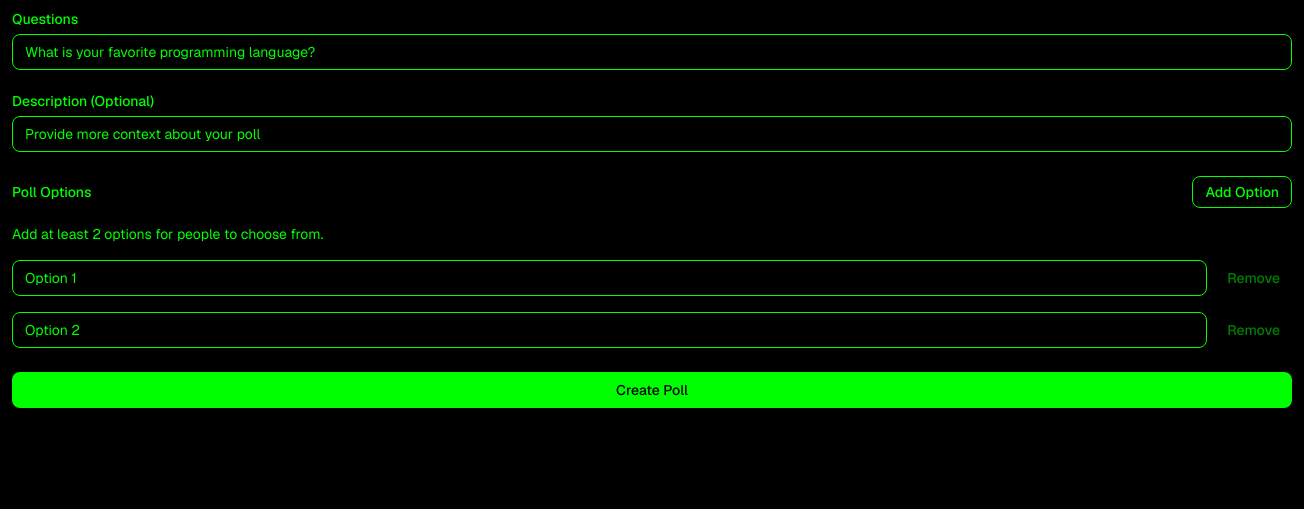
Scenario: PollCreateForm Unit Tests › should display error messages for empty required fields on submission
The width and height of the screenshot is (1304, 509).
Click the button "Create Poll".
click(652, 390)  # box [12,372,1292,408]
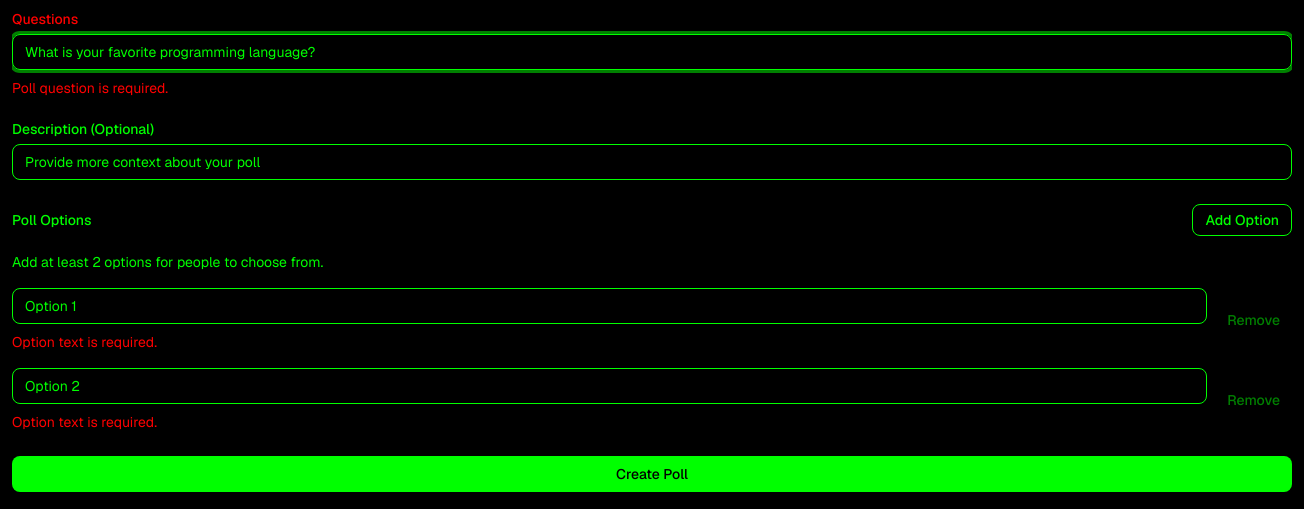
Expected: the text "Poll question is required." is shown, [12,79,168,97]
